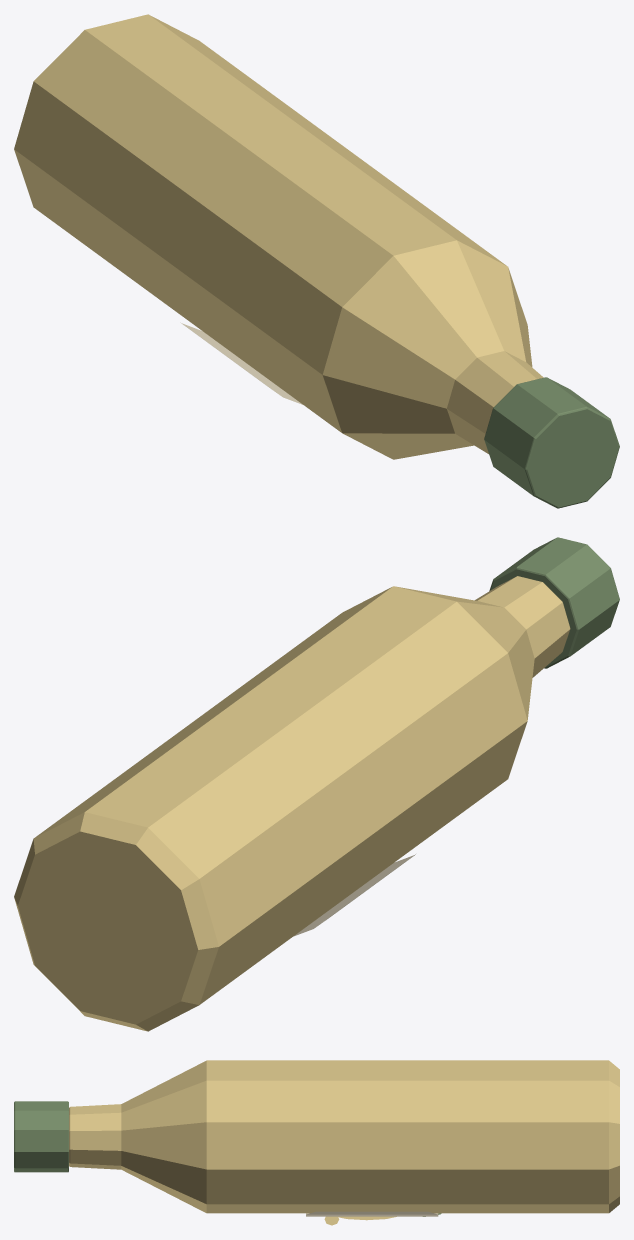
Rendered from lemonade.glb.
The picture shows the model from 3 angles, top to bottom: view 1: azimuth 30°, elevation 25°; view 2: azimuth 150°, elevation 25°; view 3: azimuth 270°, elevation 25°; orthographic projection. The views are drawn at different scales.
Visible parts, largest first — view 1: lemonade; view 2: lemonade; view 3: lemonade.
Part boxes in pixels (bbox=[...]): lemonade: bbox=[14, 14, 619, 508]; lemonade: bbox=[14, 537, 619, 1031]; lemonade: bbox=[14, 1060, 619, 1225].
Size of the model in its own units: 0.056 by 0.0575 by 0.22.
